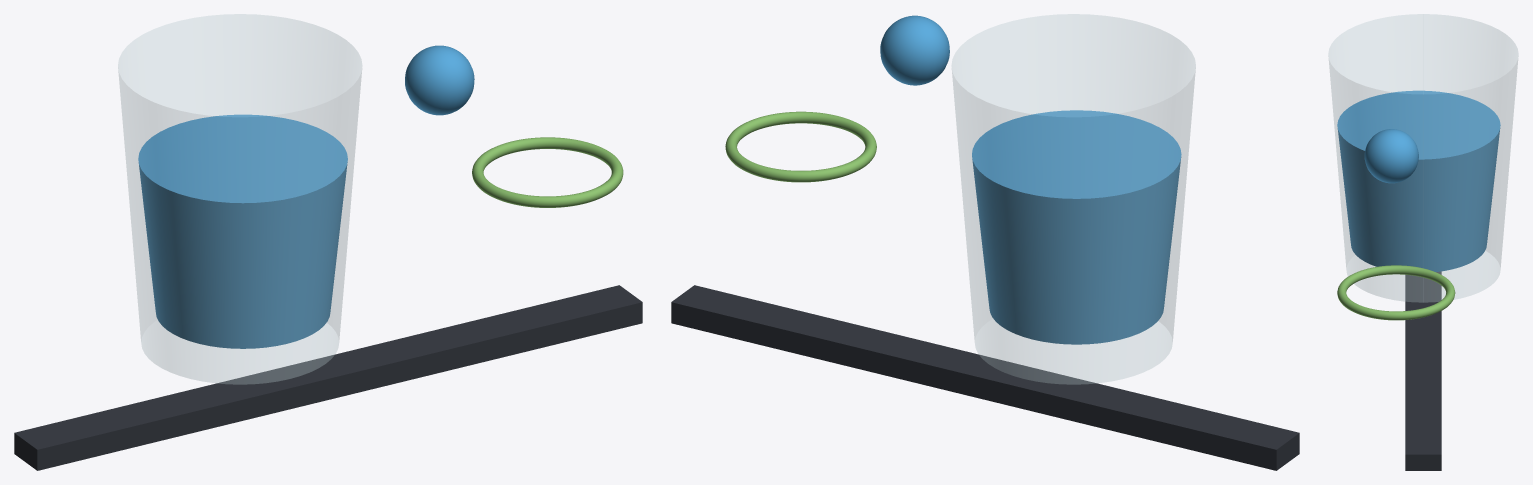
Rendered from chem-acids-base.glb.
3 renders of one model, left to right at view 1: azimuth 30°, elevation 25°; view 2: azimuth 150°, elevation 25°; view 3: azimuth 270°, elevation 25°, orthographic. The views are drawn at different scales.
Parts seen in each view (by area): view 1: base-sample-blue-solution-glass, base-sample-blue-solution-liquid, acid-base-lab-bench, slippery-cleaning-action-ring, oh-minus-ion-behavior; view 2: base-sample-blue-solution-glass, base-sample-blue-solution-liquid, acid-base-lab-bench, slippery-cleaning-action-ring, oh-minus-ion-behavior; view 3: base-sample-blue-solution-glass, base-sample-blue-solution-liquid, acid-base-lab-bench, slippery-cleaning-action-ring, oh-minus-ion-behavior.
Part boxes in pixels (bbox=[...]): base-sample-blue-solution-glass: bbox=[118, 14, 362, 384]; base-sample-blue-solution-liquid: bbox=[138, 114, 347, 348]; acid-base-lab-bench: bbox=[14, 285, 642, 470]; slippery-cleaning-action-ring: bbox=[472, 137, 623, 207]; oh-minus-ion-behavior: bbox=[405, 45, 474, 115]; base-sample-blue-solution-glass: bbox=[951, 14, 1195, 384]; base-sample-blue-solution-liquid: bbox=[972, 110, 1181, 344]; acid-base-lab-bench: bbox=[671, 285, 1299, 470]; slippery-cleaning-action-ring: bbox=[725, 111, 876, 182]; oh-minus-ion-behavior: bbox=[880, 15, 949, 85]; base-sample-blue-solution-glass: bbox=[1328, 14, 1518, 302]; base-sample-blue-solution-liquid: bbox=[1337, 90, 1500, 271]; acid-base-lab-bench: bbox=[1405, 271, 1441, 470]; slippery-cleaning-action-ring: bbox=[1337, 265, 1455, 320]; oh-minus-ion-behavior: bbox=[1364, 129, 1418, 183].
Size of what is drawn, in the model's own units: 2.4 by 1.3 by 0.84.
